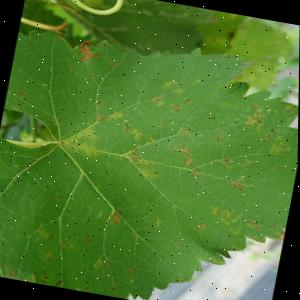Folha: (0, 13, 300, 300)
Fungo: (240, 100, 281, 142), (168, 140, 199, 167), (75, 38, 102, 62), (35, 224, 55, 239), (108, 207, 124, 224), (245, 218, 262, 230), (229, 179, 246, 190), (219, 155, 234, 166), (274, 228, 286, 240), (209, 203, 222, 214), (195, 219, 209, 229), (40, 270, 51, 282), (59, 238, 72, 248), (169, 101, 180, 111), (83, 232, 92, 242), (191, 168, 205, 174), (123, 121, 132, 130), (16, 88, 27, 95), (215, 134, 224, 140), (269, 164, 276, 169)
